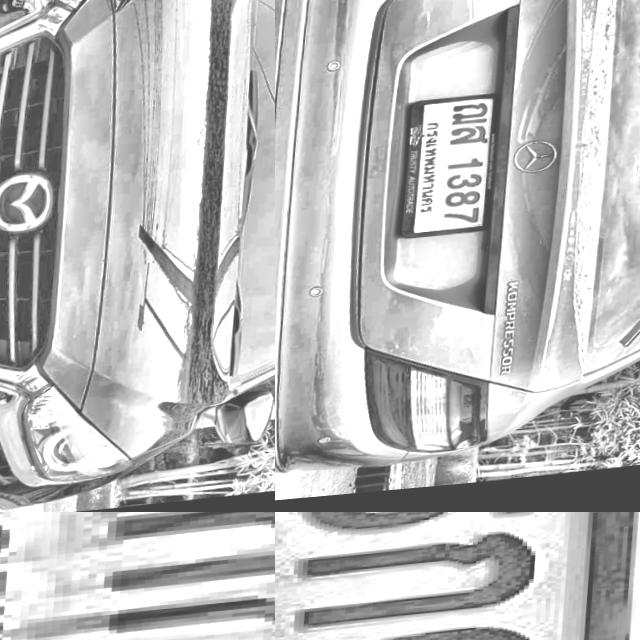license-plate: (275, 512, 640, 640), (0, 512, 275, 640), (401, 96, 509, 245)
